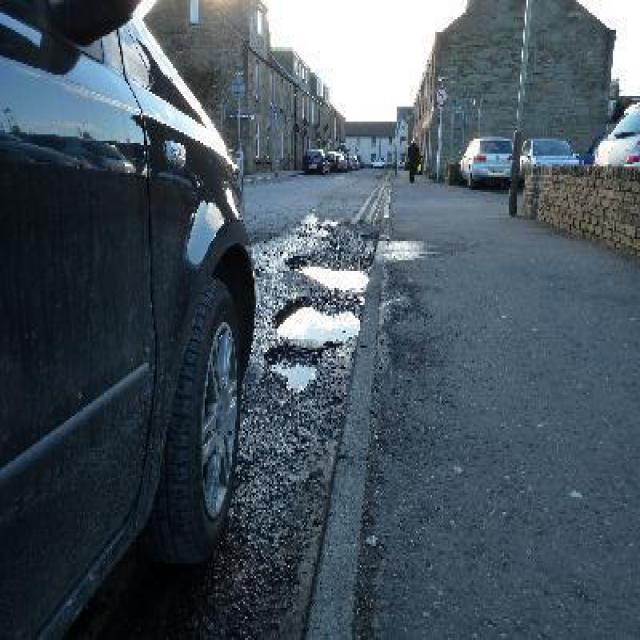buraco: (275, 296, 363, 344), (286, 250, 373, 296), (276, 300, 361, 346), (289, 256, 367, 295), (266, 346, 324, 392), (267, 354, 319, 395)
